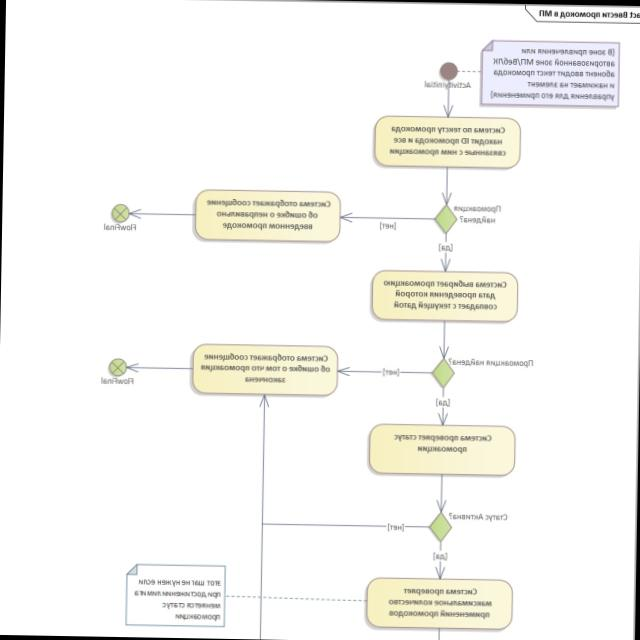arrow: (255, 394, 430, 530), (340, 210, 435, 225), (337, 364, 432, 379), (126, 360, 192, 374), (129, 207, 195, 220), (432, 541, 448, 578), (441, 79, 455, 117), (440, 167, 454, 205), (438, 232, 452, 270), (436, 386, 450, 424), (434, 474, 448, 512), (437, 321, 450, 358)
circle: (439, 61, 458, 80), (108, 359, 125, 376), (111, 204, 127, 222)
diamond: (428, 514, 450, 541), (433, 360, 454, 387), (435, 206, 455, 233)
rectangle: (195, 190, 340, 242), (374, 117, 519, 168), (371, 271, 516, 322), (366, 578, 511, 629), (369, 425, 514, 475), (192, 345, 337, 395)
text_region: (488, 42, 617, 104), (132, 576, 222, 620), (454, 203, 502, 224), (448, 358, 534, 368), (422, 78, 472, 90), (448, 512, 508, 521), (102, 222, 136, 232), (100, 376, 134, 384), (378, 220, 396, 230), (382, 366, 399, 376), (387, 522, 404, 532), (432, 550, 448, 560), (438, 242, 453, 252), (435, 397, 450, 406)
